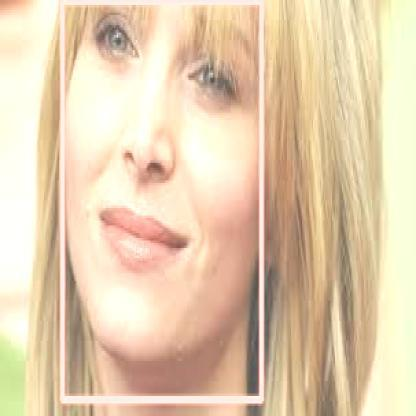without_mask: (62, 0, 262, 399)
